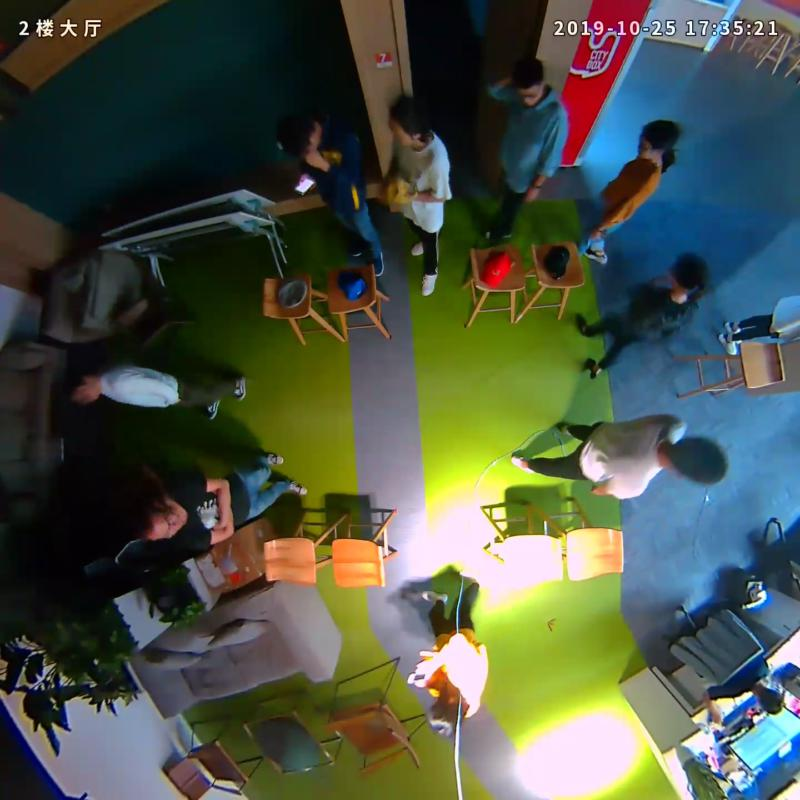head: (131, 491, 186, 542), (672, 437, 728, 485), (388, 94, 427, 149), (276, 111, 324, 154), (669, 250, 710, 300), (638, 120, 681, 163), (510, 59, 548, 107), (426, 693, 464, 737), (63, 367, 102, 406)
